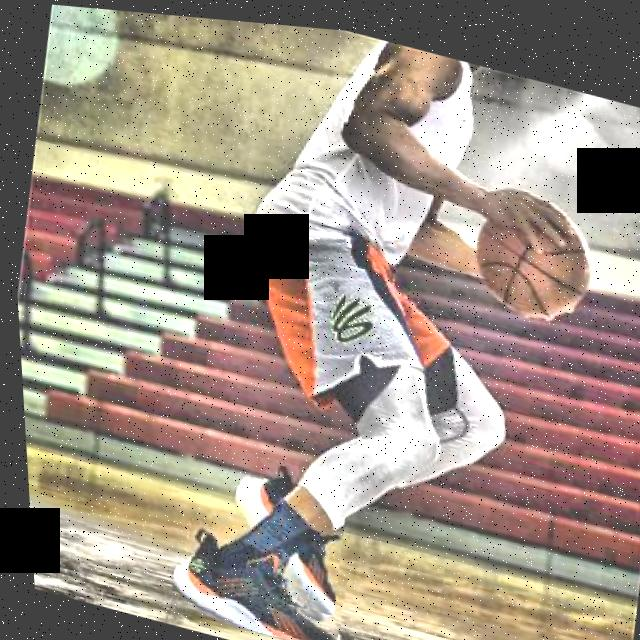shoe: (157, 514, 347, 640), (212, 450, 349, 612)
